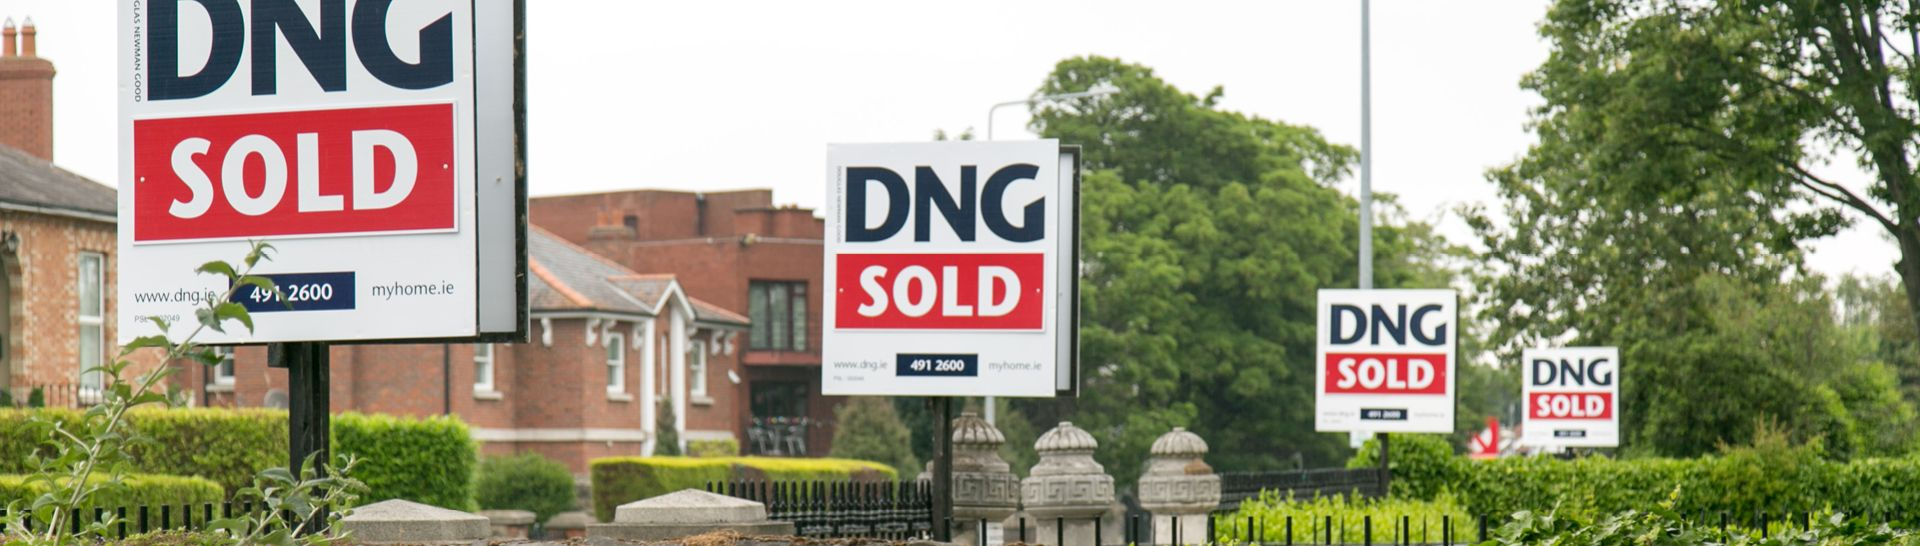property sign: (89, 2, 539, 397), (790, 113, 1111, 420), (1304, 269, 1462, 453), (1520, 327, 1627, 465)
